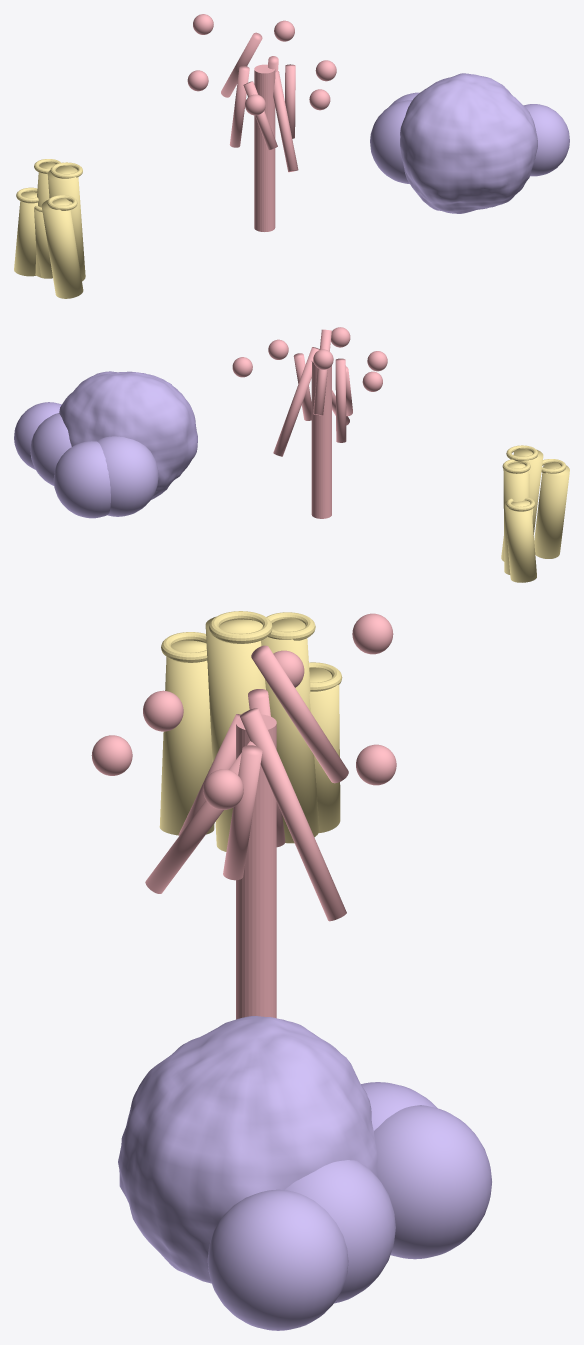
The model's file is coral.glb.
3 views of the same model, one above another, from view 1: azimuth 30°, elevation 25°; view 2: azimuth 150°, elevation 25°; view 3: azimuth 270°, elevation 25° (orthographic). The views are drawn at different scales.
Visible parts, largest first — view 1: MoundBase, BranchTrunk, Tube_2, MoundSmall_0, MoundSmall_2, Tube_0, Tube_3, Branch_5, Branch_3, Tube_4, Branch_2, Branch_0 (+4 smaller); view 2: MoundBase, MoundSmall_3, MoundSmall_0, BranchTrunk, Tube_2, Tube_0, MoundSmall_1, MoundSmall_2, Branch_1, Tube_1, Branch_3, Tube_3 (+8 smaller); view 3: MoundBase, MoundSmall_2, MoundSmall_3, BranchTrunk, MoundSmall_1, Tube_2, Tube_3, Branch_1, Tube_1, Branch_2, Tube_0, Branch_0 (+10 smaller).
Boxes of the visible parts, left/top/right/bottom form: MoundBase: left=400, top=73, right=537, bottom=213; BranchTrunk: left=254, top=64, right=275, bottom=231; Tube_2: left=41, top=198, right=83, bottom=298; MoundSmall_0: left=370, top=100, right=412, bottom=183; MoundSmall_2: left=523, top=104, right=569, bottom=176; Tube_0: left=14, top=191, right=37, bottom=276; Tube_3: left=47, top=165, right=85, bottom=281; Branch_5: left=273, top=71, right=298, bottom=172; Branch_3: left=229, top=65, right=249, bottom=147; Tube_4: left=34, top=209, right=52, bottom=278; Branch_2: left=221, top=32, right=262, bottom=97; Branch_0: left=285, top=64, right=295, bottom=138; MoundBase: left=59, top=371, right=197, bottom=499; MoundSmall_3: left=53, top=441, right=110, bottom=518; MoundSmall_0: left=97, top=436, right=158, bottom=516; BranchTrunk: left=311, top=360, right=331, bottom=518; Tube_2: left=534, top=462, right=569, bottom=558; Tube_0: left=504, top=500, right=536, bottom=582; MoundSmall_1: left=30, top=413, right=71, bottom=485; MoundSmall_2: left=14, top=402, right=61, bottom=469; Branch_1: left=273, top=347, right=319, bottom=456; Tube_1: left=503, top=463, right=529, bottom=574; Branch_3: left=335, top=358, right=346, bottom=442; Tube_3: left=501, top=448, right=543, bottom=561; MoundBase: left=118, top=1016, right=377, bottom=1283; MoundSmall_2: left=207, top=1189, right=348, bottom=1330; MoundSmall_3: left=374, top=1105, right=491, bottom=1259; BranchTrunk: left=236, top=714, right=276, bottom=1019; MoundSmall_1: left=285, top=1160, right=395, bottom=1303; Tube_2: left=159, top=640, right=214, bottom=835; Tube_3: left=205, top=617, right=265, bottom=851; Branch_1: left=240, top=708, right=346, bottom=921; Tube_1: left=261, top=618, right=319, bottom=843; Branch_2: left=251, top=645, right=348, bottom=783; Tube_0: left=309, top=667, right=340, bottom=832; Branch_0: left=223, top=745, right=262, bottom=880.
Bounding box in the file's own units: 10.75 × 4.33 × 3.53.
